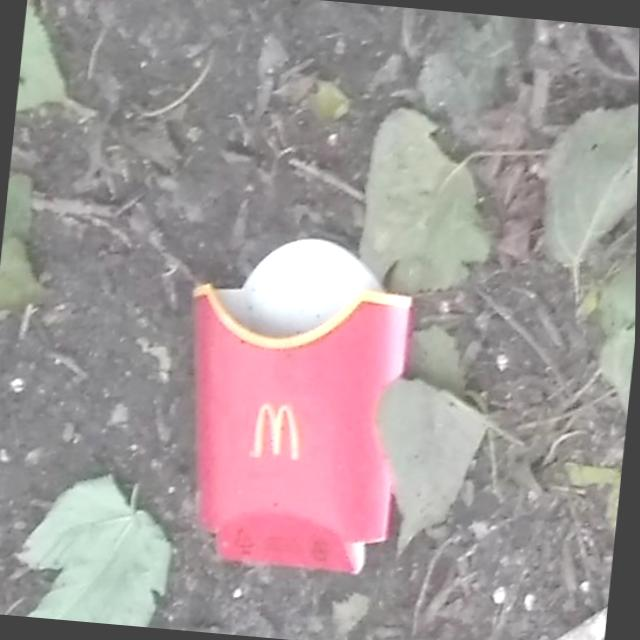Paper: (162, 223, 422, 578)
